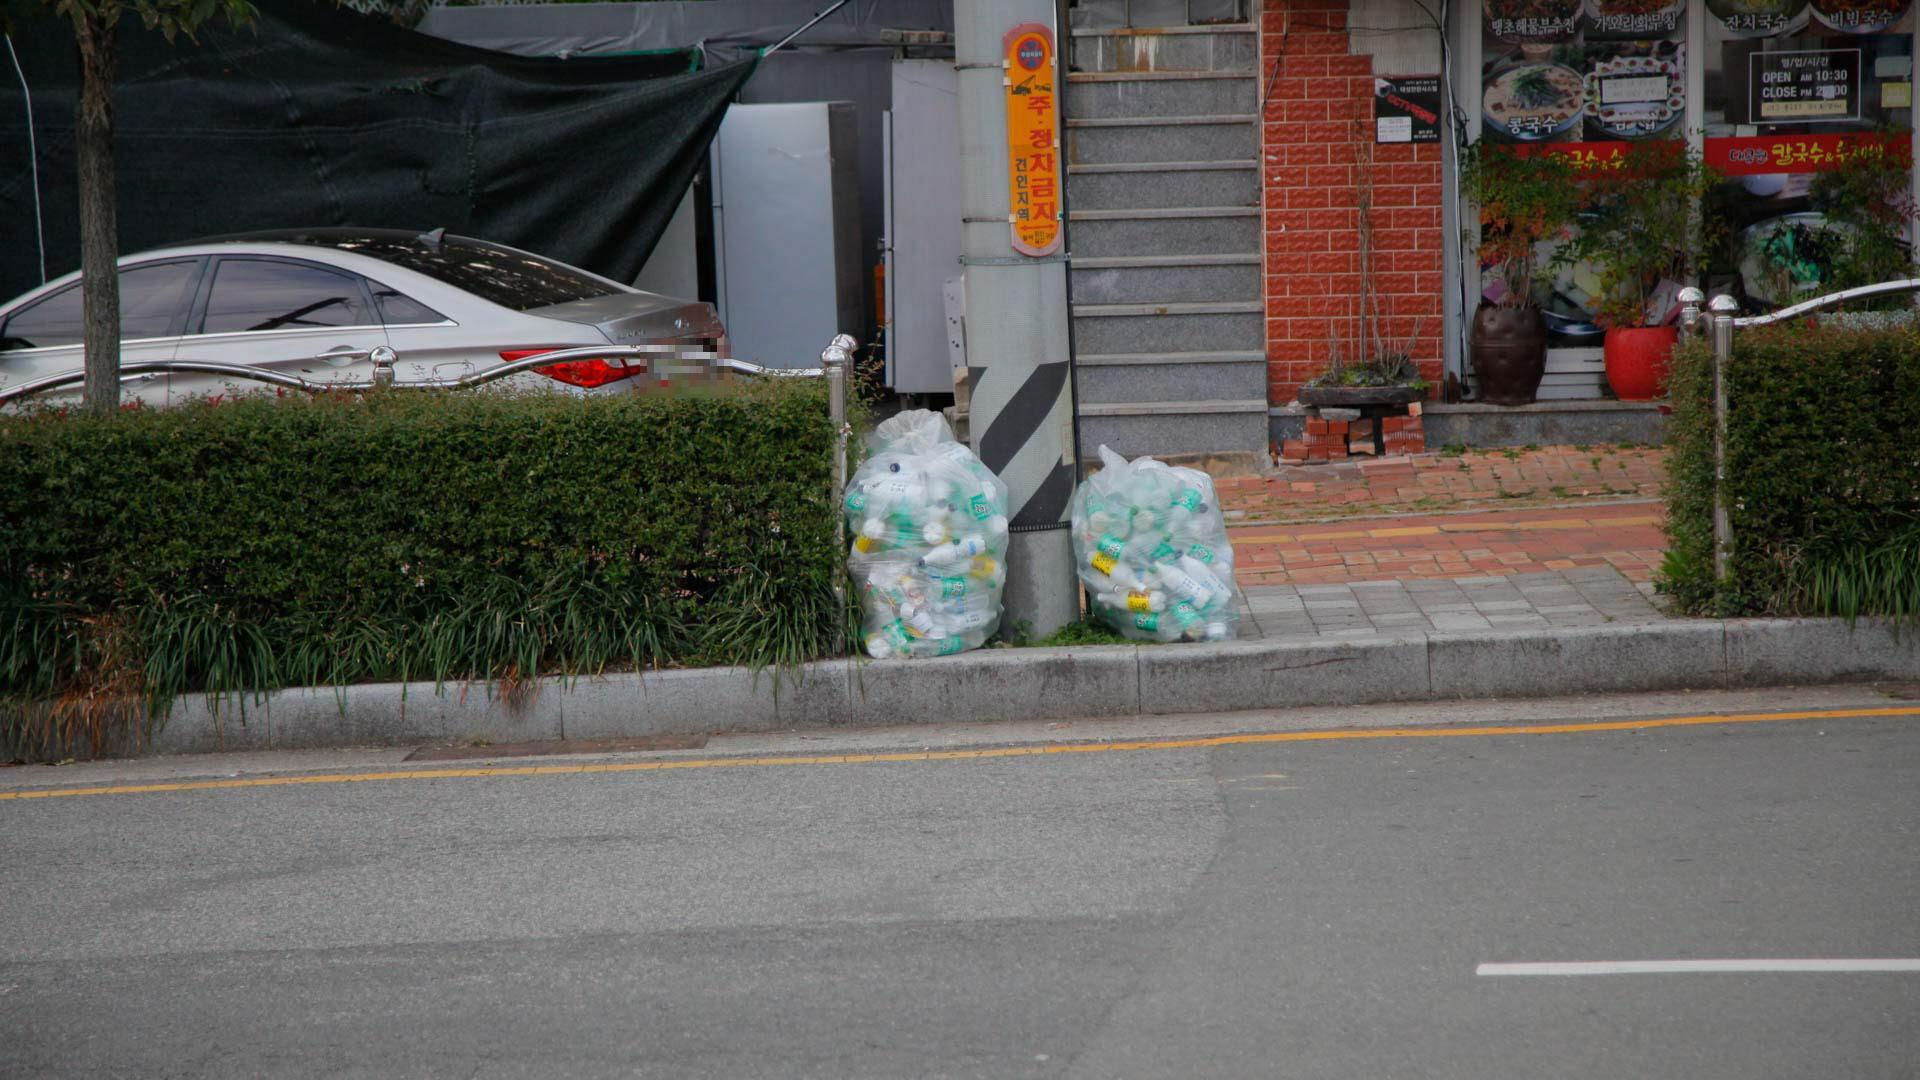white_bag: (820, 397, 1015, 671), (1063, 436, 1250, 651)
